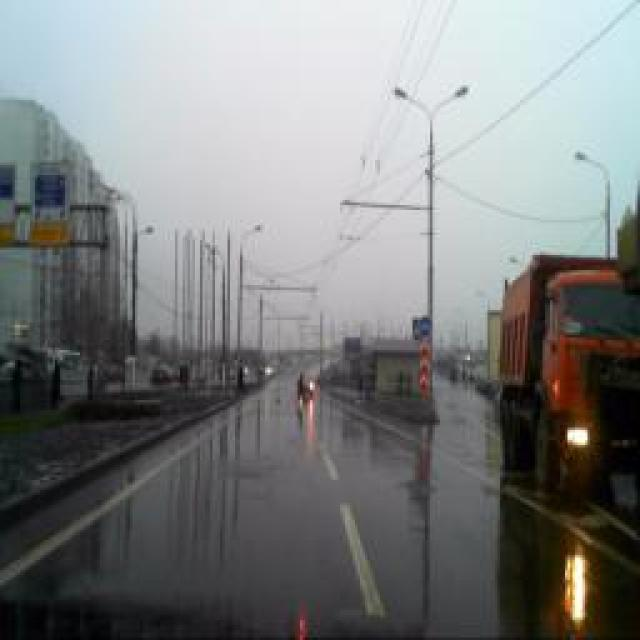sign: (419, 315, 431, 337)
